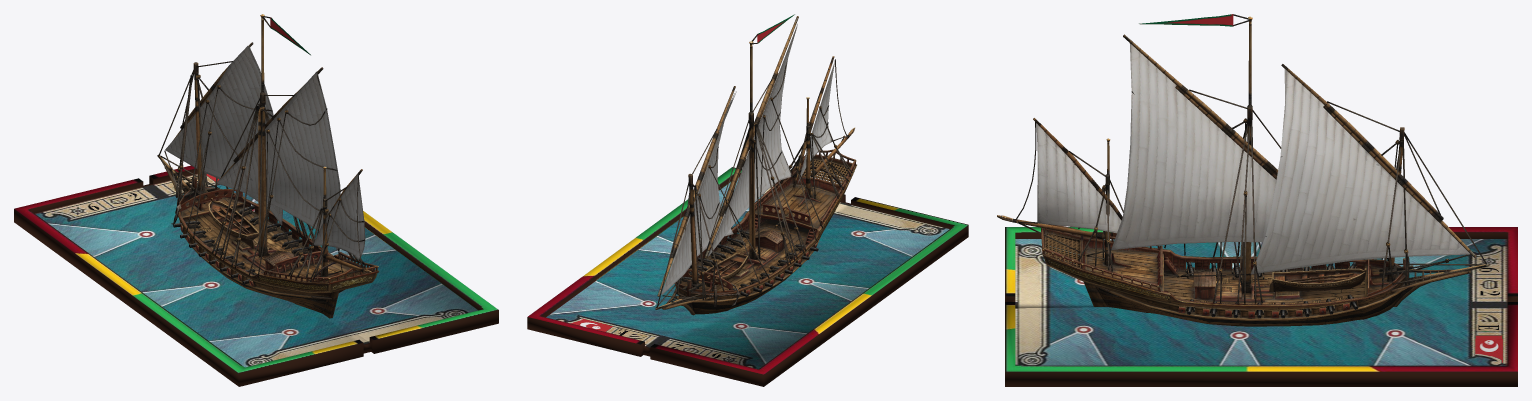
Rendered from SOG_xebec.obj.
The picture shows the model from 3 angles, left to right: view 1: azimuth 30°, elevation 25°; view 2: azimuth 150°, elevation 25°; view 3: azimuth 270°, elevation 25°; orthographic projection. The views are drawn at different scales.
Parts seen in each view (by area): view 1: sogBaseTex, xebsails, xebTex; view 2: sogBaseTex, xebTex, xebsails; view 3: sogBaseTex, xebsails, xebTex, Material_1.
Part boxes in pixels (box(x1,y1,x2,y2)): sogBaseTex: box(14, 165, 498, 386); xebsails: box(164, 46, 371, 278); xebTex: box(157, 14, 379, 318); sogBaseTex: box(527, 167, 968, 386); xebTex: box(655, 16, 856, 315); xebsails: box(661, 24, 854, 300); sogBaseTex: box(1005, 227, 1517, 386); xebsails: box(997, 40, 1470, 303); xebTex: box(1033, 16, 1488, 326); Material_1: box(1139, 14, 1249, 26).
Size of the model in its own units: 4.3 by 4.18 by 6.55.
